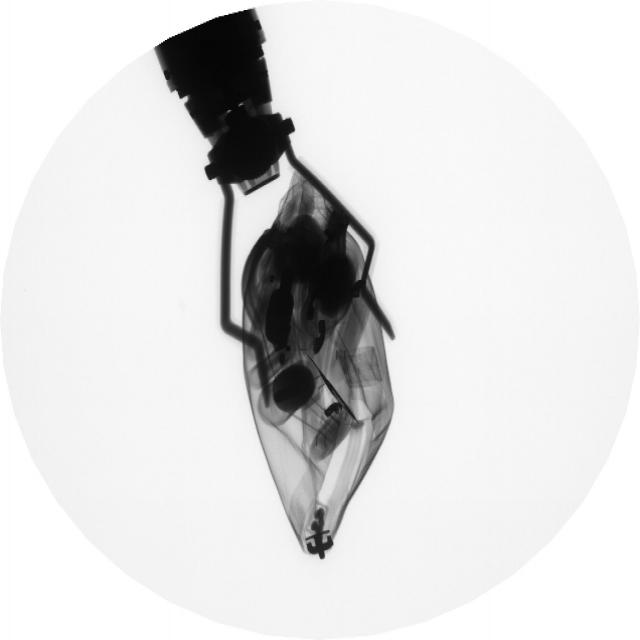BLADE: (303, 368, 370, 429)
